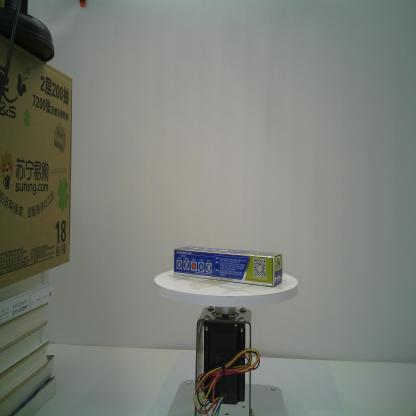Personal Hygiene: (174, 246, 283, 287)
